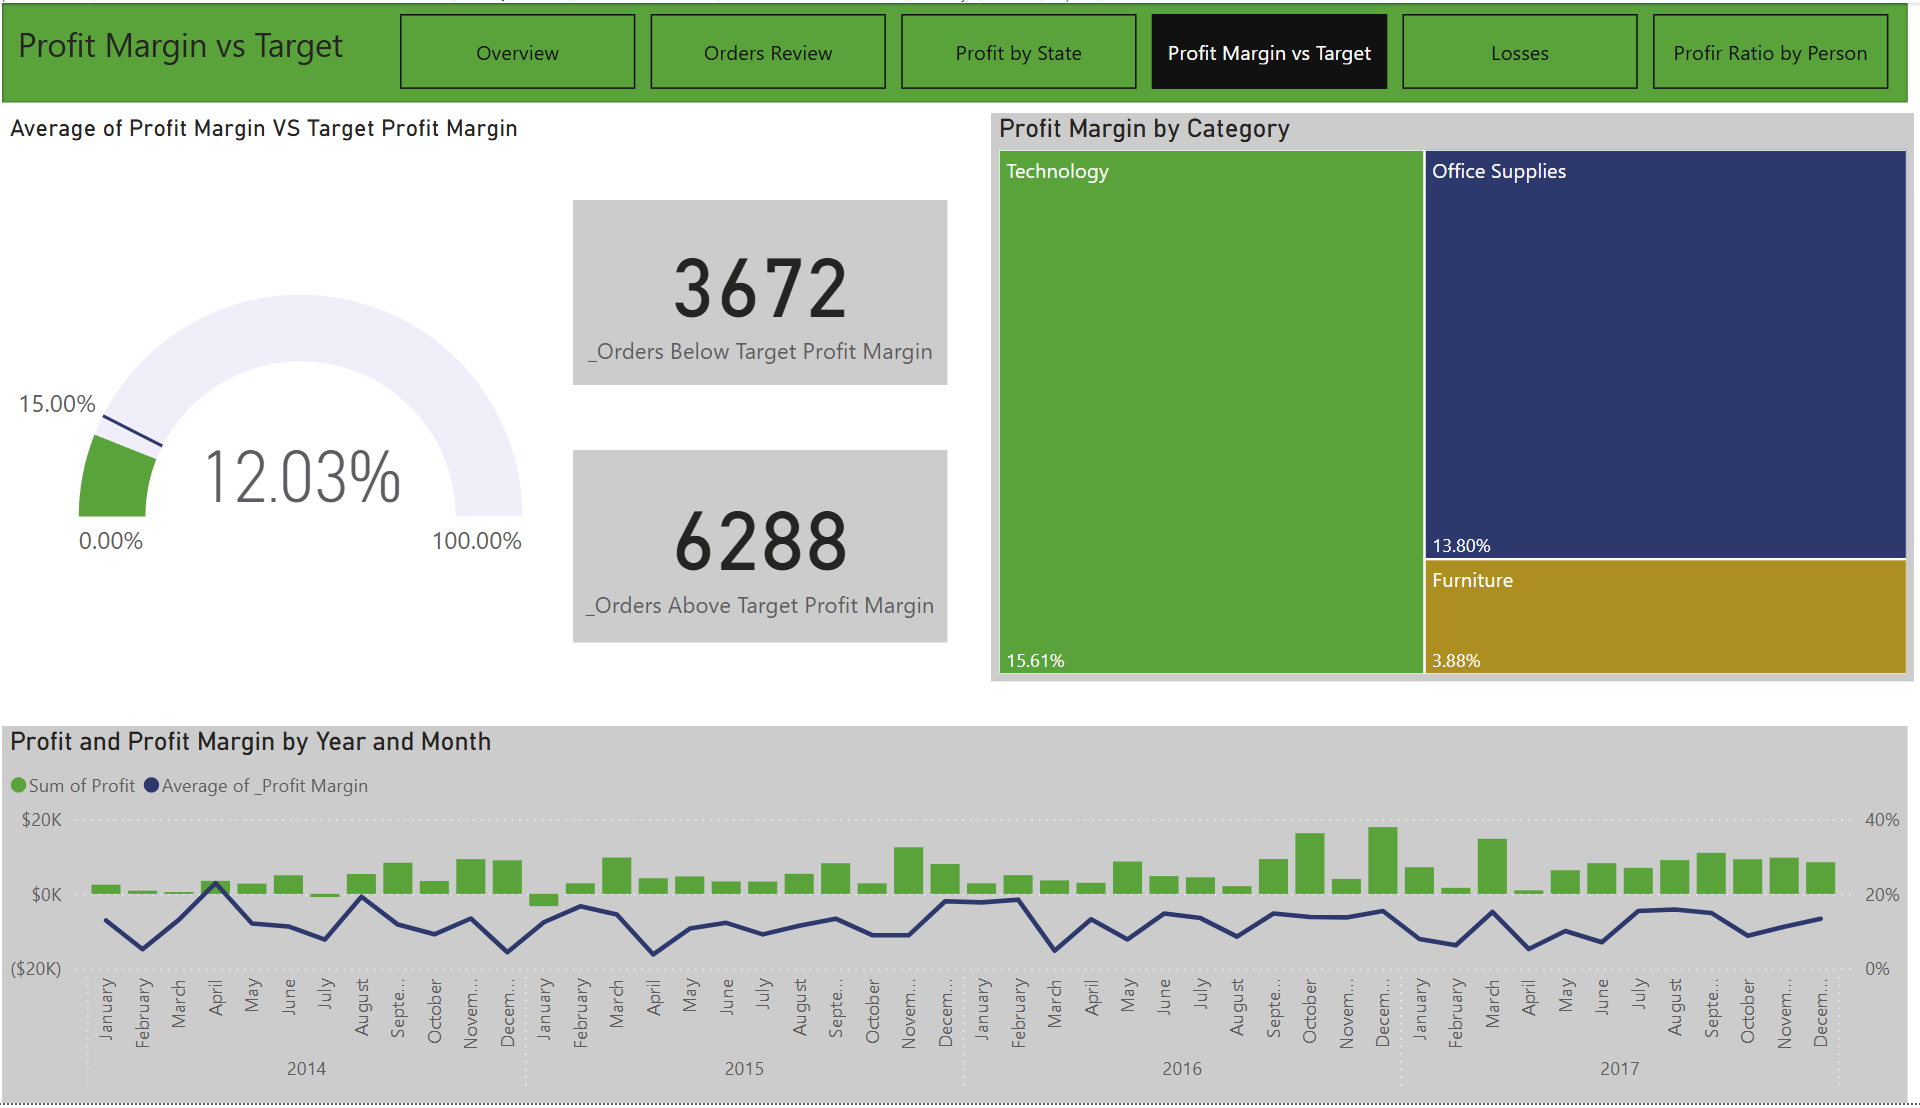

The page's visual inventory and layout, read from the dashboard file:
{"tool":"powerbi","page":{"name":"Profit Margin vs Target","canvas":[1280,720],"ordinal":3},"visuals":[{"type":"shape","box":[18.3,0,1247.3,65.4],"z":1000},{"type":"textbox","box":[23.6,7.2,234.9,54.3],"z":2000},{"type":"pageNavigator","box":[278.8,7.2,976.4,49.7],"z":3000},{"type":"lineClusteredColumnComboChart","title":"Profit and Profit Margin by Year and Month","fields":{"Y":["Sum(Orders.Profit)"],"Y2":["Avg(Orders.Profir Margin)"],"Category":["Orders.Order Date.Variation.Date Hierarchy.Year","Orders.Order Date.Variation.Date Hierarchy.Month"]},"box":[18.3,473.1,1247.3,246.7],"z":4000},{"type":"gauge","title":"Average of Profit Margin VS Target Profit Margin","fields":{"Y":["Avg(Orders.Profir Margin)"],"TargetValue":["Orders.Target Profit Margin"],"MaxValue":["Orders.Maximum Profit Margin"]},"box":[18.3,72,345.5,395.9],"z":5000},{"type":"card","fields":{"Values":["Orders.Orders Above Target Profit Margin"]},"box":[392,292.5,244.7,125.6],"z":6000},{"type":"card","fields":{"Values":["Orders.Orders Below Target Profit Margin"]},"box":[391.7,128.6,245.1,120.7],"z":7000},{"type":"treemap","title":"Profit Margin by Category","fields":{"Group":["Products.Category","Products.Sub-Category","Products.Product Name"],"Values":["Avg(Orders._Profit Margin)"]},"box":[665.5,71.9,604.4,372.3],"z":8000}]}

Visuals, with their boxes in screenshot pixels (x1, y1, x2, y2), scaled from the page's 1280x720 canvas onto the 1920x1108 screenshot:
shape: (27, 0, 1898, 101)
textbox: (35, 11, 388, 95)
pageNavigator: (418, 11, 1883, 88)
"Profit and Profit Margin by Year and Month" lineClusteredColumnComboChart: (27, 728, 1898, 1107)
"Average of Profit Margin VS Target Profit Margin" gauge: (27, 111, 546, 720)
card - Orders.Orders Above Target Profit Margin: (588, 450, 955, 643)
card - Orders.Orders Below Target Profit Margin: (588, 198, 955, 384)
"Profit Margin by Category" treemap: (998, 111, 1905, 684)
